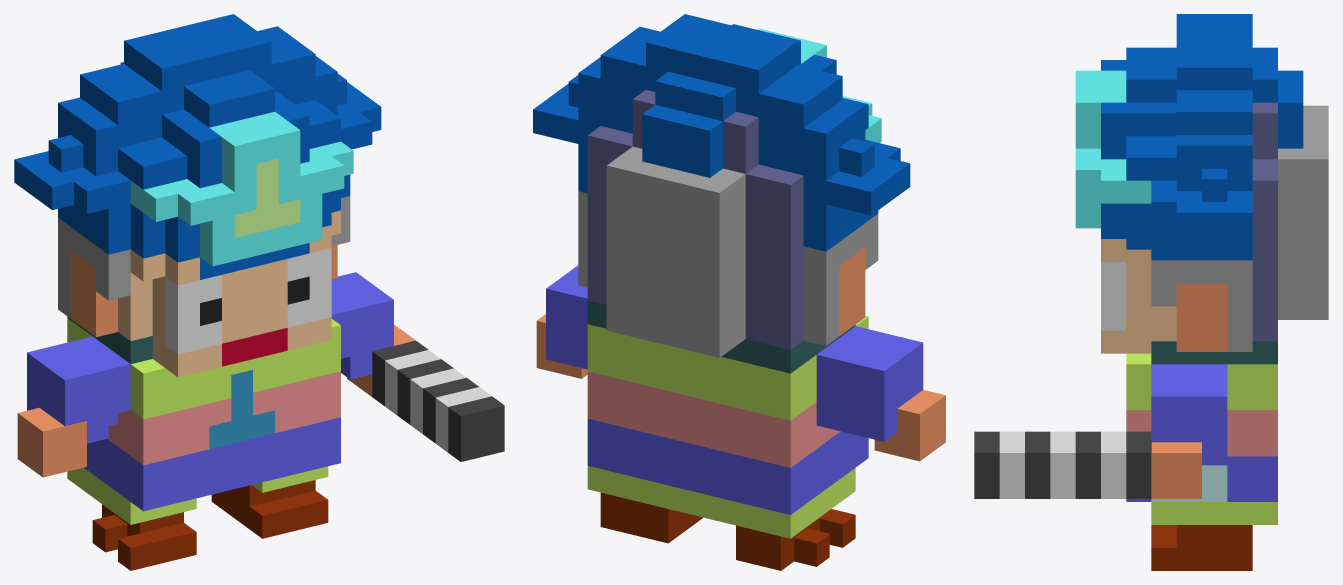
File: warden.fbx
The picture shows the model from 3 angles, left to right: view 1: azimuth 30°, elevation 25°; view 2: azimuth 150°, elevation 25°; view 3: azimuth 270°, elevation 25°; orthographic projection. The views are drawn at different scales.
Parts seen in each view (by area): view 1: 对象; view 2: 对象; view 3: 对象.
Part boxes in pixels (x1,y1,x2,y2): 对象: (14, 14, 504, 570); 对象: (533, 14, 945, 570); 对象: (974, 14, 1328, 570).
Bounding box in the file's own units: 17 × 21 × 14.
Materials: 1 (1 with a texture image).
